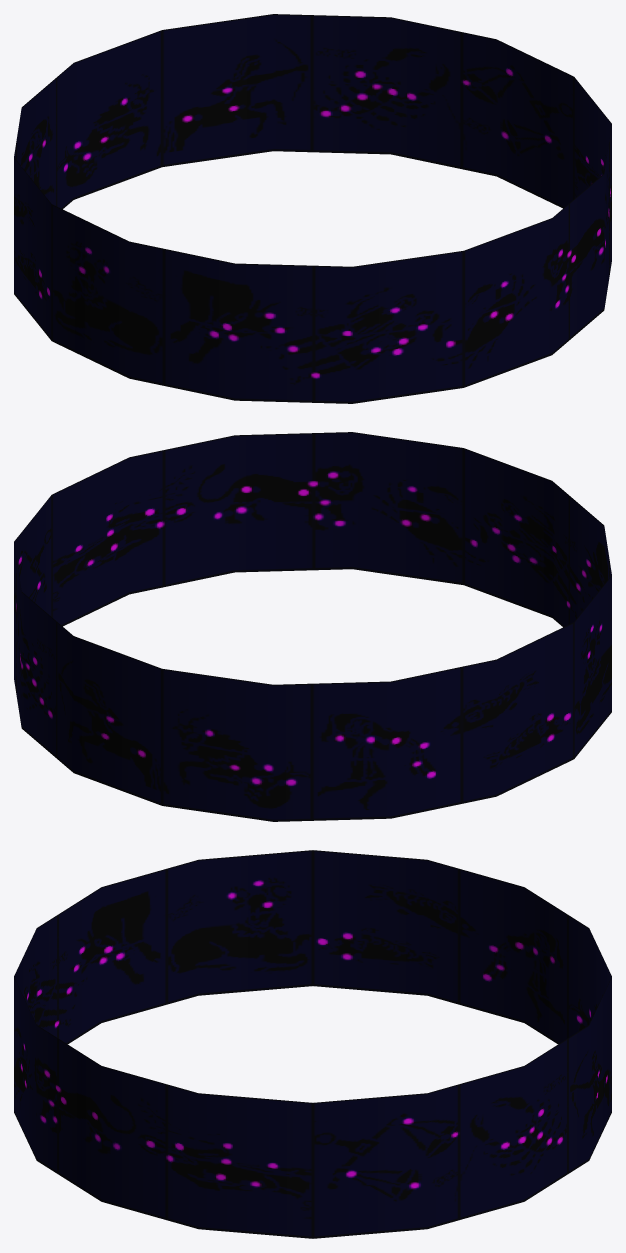
The model's file is zodiacalbeltV2BlueandBlack.fbx.
The picture shows the model from 3 angles, top to bottom: view 1: azimuth 30°, elevation 25°; view 2: azimuth 150°, elevation 25°; view 3: azimuth 270°, elevation 25°; orthographic projection.
Visible parts, largest first — view 1: Cylinder; view 2: Cylinder; view 3: Cylinder.
Part boxes in pixels (left/top/right/bottom): Cylinder: left=14, top=14, right=611, bottom=403; Cylinder: left=14, top=432, right=611, bottom=821; Cylinder: left=14, top=850, right=611, bottom=1238.
Size of the model in its own units: 565 by 142 by 565.
1 material, 1 textured.
